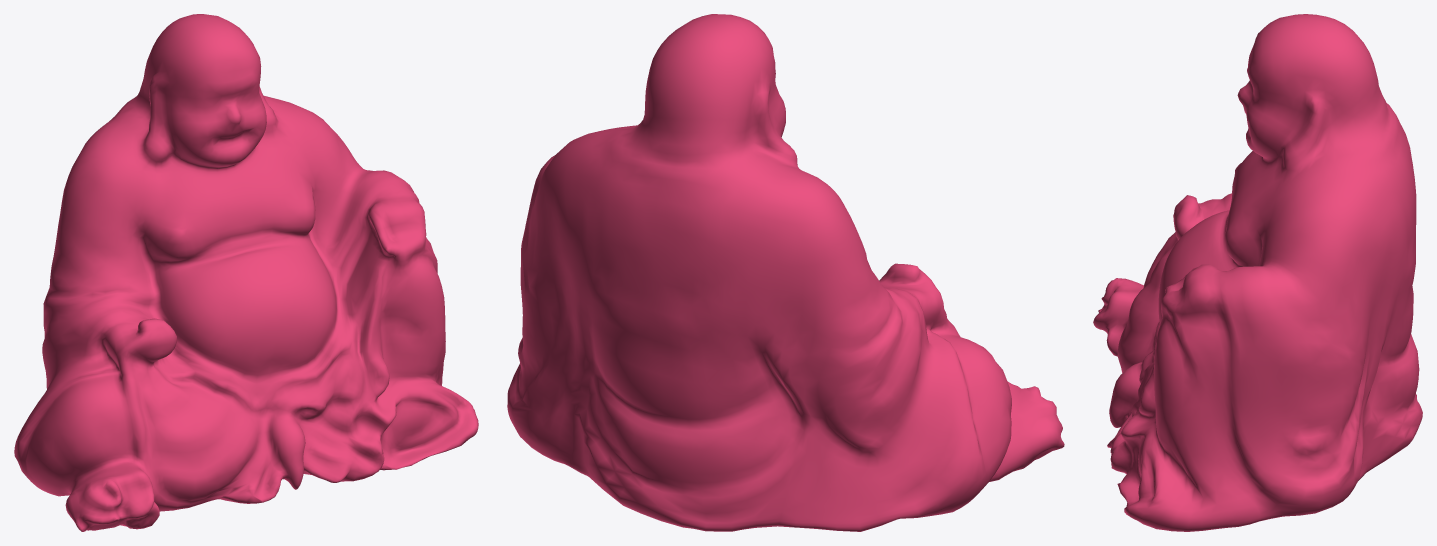
Rendered from Laughing_Buddha.glb.
The picture shows the model from 3 angles, left to right: view 1: azimuth 30°, elevation 25°; view 2: azimuth 150°, elevation 25°; view 3: azimuth 270°, elevation 25°; orthographic projection. The views are drawn at different scales.
Parts seen in each view (by area): view 1: Mesh_0; view 2: Mesh_0; view 3: Mesh_0.
Boxes of the visible parts, <box> form: Mesh_0: <box>14,14,478,531</box>; Mesh_0: <box>507,14,1064,531</box>; Mesh_0: <box>1093,14,1422,531</box>.
Size of the model in its own units: 1.99 by 1.86 by 1.33.
